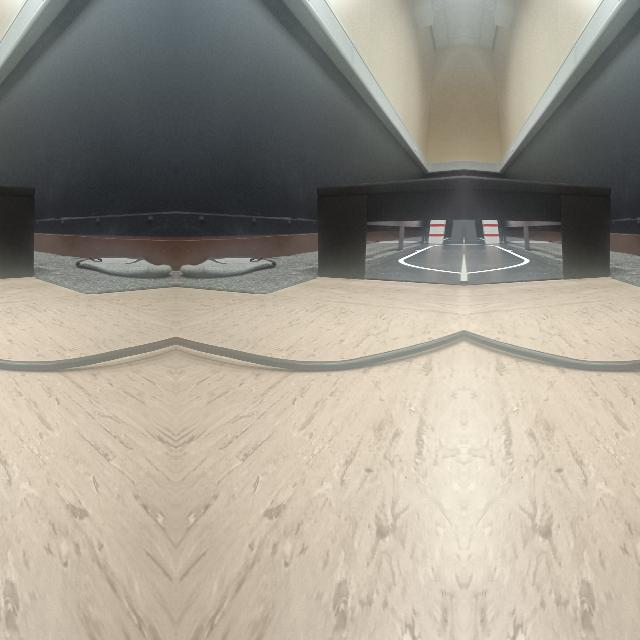obstacle: (313, 177, 463, 277), (464, 177, 614, 277), (176, 329, 464, 371), (463, 329, 640, 371), (0, 329, 173, 371), (0, 177, 37, 277)
